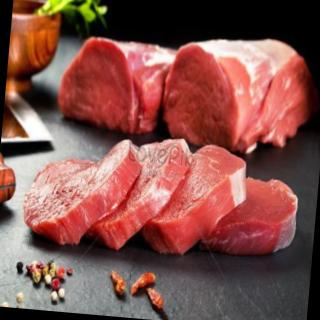Daging Sapi: (27, 129, 307, 266), (164, 35, 312, 148), (27, 134, 135, 251), (58, 37, 171, 136), (205, 178, 303, 253)
